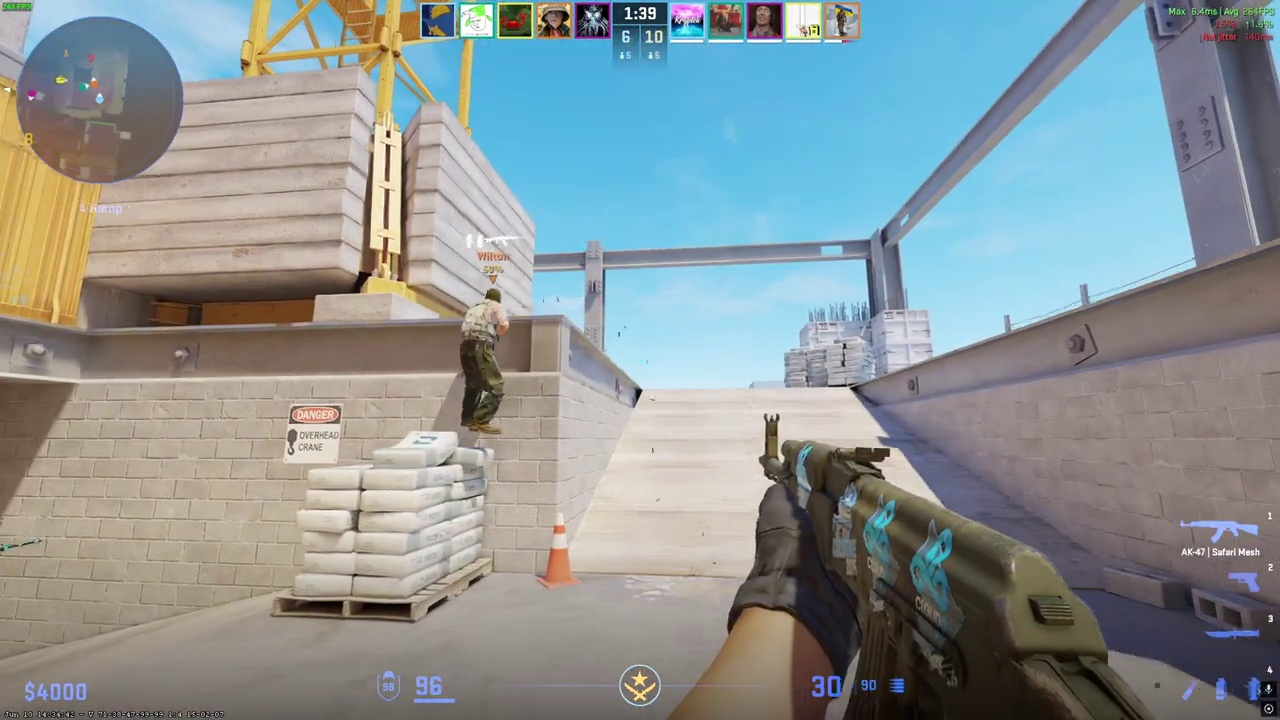Terrorist: (457, 287, 513, 434)
